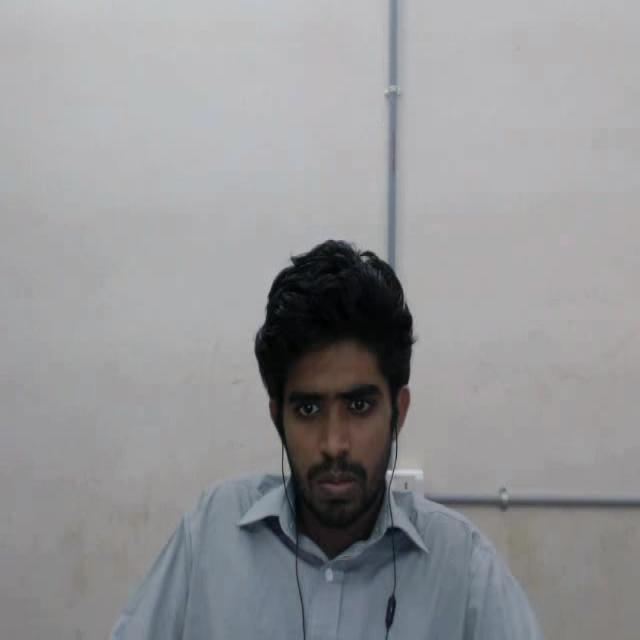Engaged: (231, 232, 463, 579)
